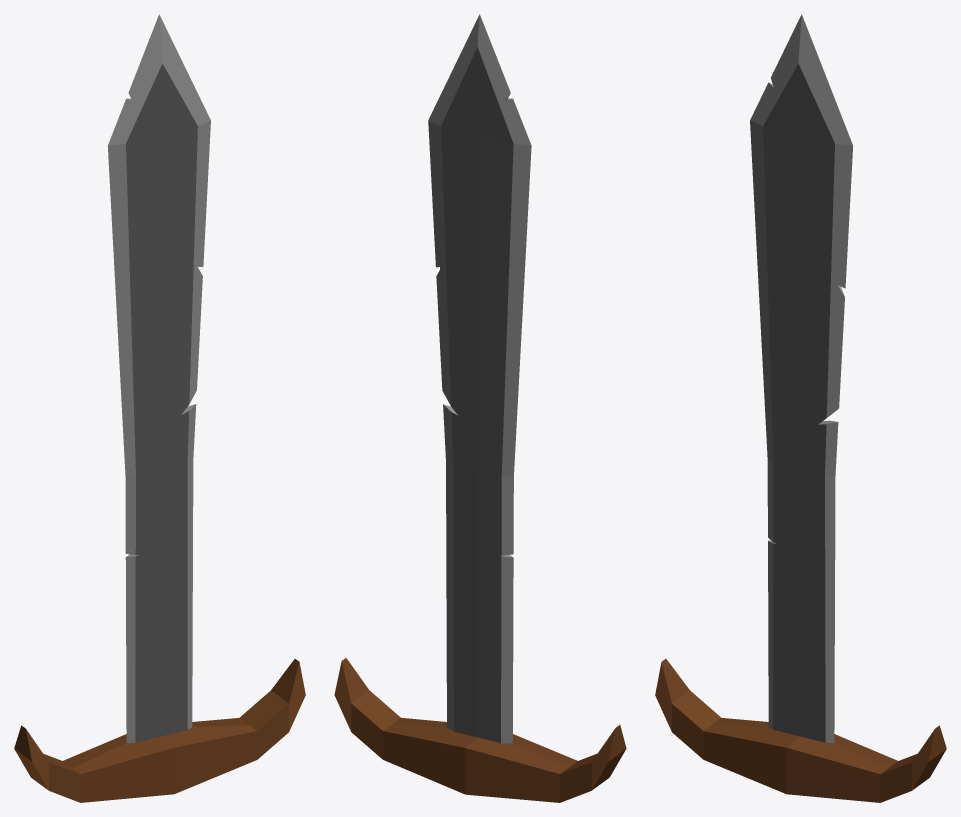
Rendered from Sword.fbx.
3 views of the same model, side by side, from view 1: azimuth 30°, elevation 25°; view 2: azimuth 150°, elevation 25°; view 3: azimuth 330°, elevation 25° (orthographic).
Visible parts, largest first — view 1: Cube; view 2: Cube; view 3: Cube.
Boxes of the visible parts, x1=… form: Cube: x1=14, y1=14, x2=305, y2=802; Cube: x1=334, y1=14, x2=626, y2=802; Cube: x1=655, y1=14, x2=946, y2=802.
Bounding box in the file's own units: 521 × 1401 × 96.98.
